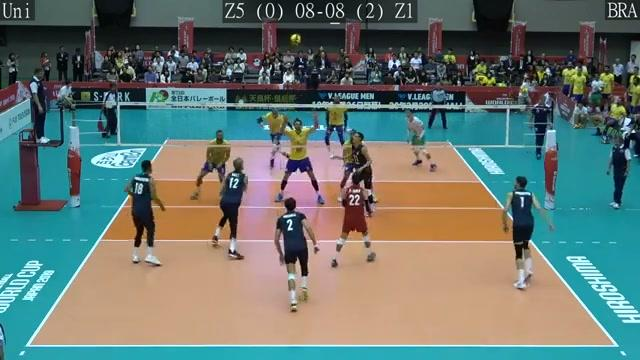ball: (289, 33, 303, 45)
